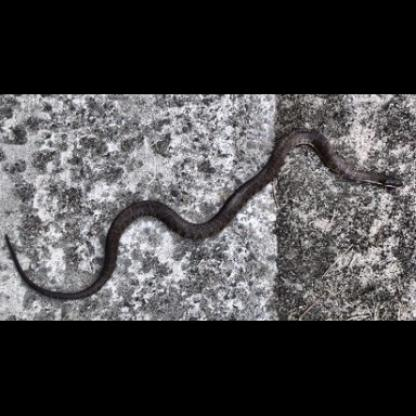Snake: (7, 115, 414, 306)
